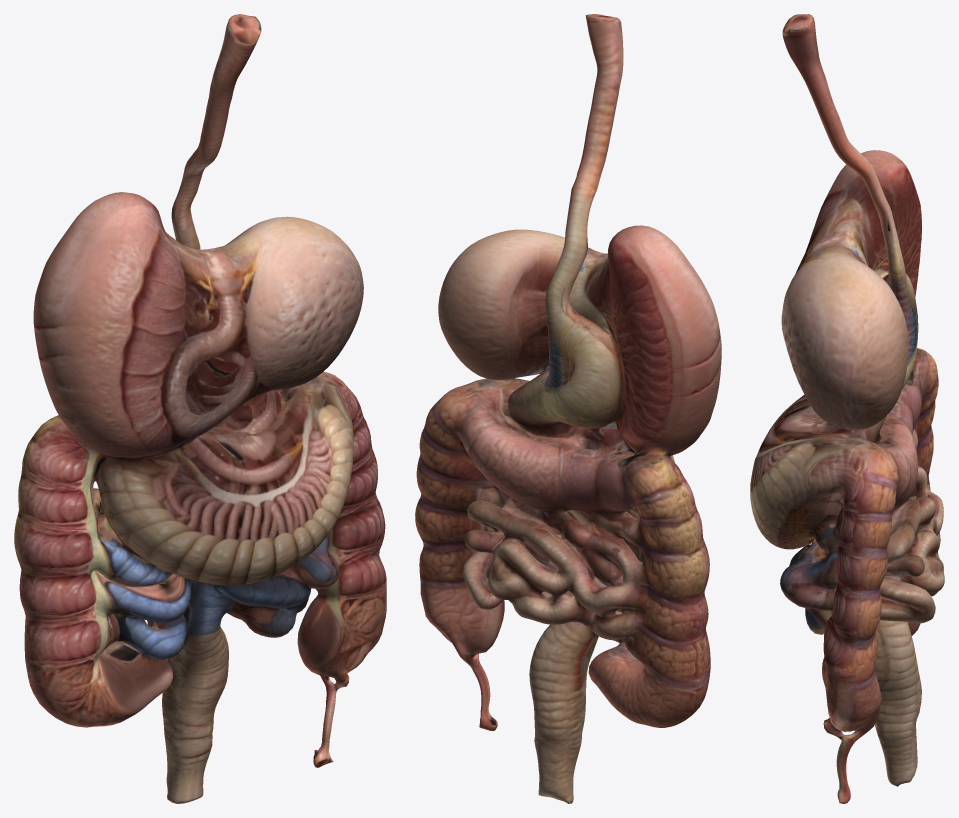
File: digestive_System.glb
The picture shows the model from 3 angles, left to right: view 1: azimuth 30°, elevation 25°; view 2: azimuth 150°, elevation 25°; view 3: azimuth 270°, elevation 25°; orthographic projection. The views are drawn at different scales.
Parts seen in each view (by area): view 1: Stylized Digestive System; view 2: Stylized Digestive System; view 3: Stylized Digestive System.
Boxes of the visible parts, x1,y1,x2,y2 form: Stylized Digestive System: [14, 14, 386, 803]; Stylized Digestive System: [415, 14, 721, 803]; Stylized Digestive System: [750, 14, 944, 803].
Size of the model in its own units: 6.64 by 15.33 by 3.53.
1 material, 1 textured.
